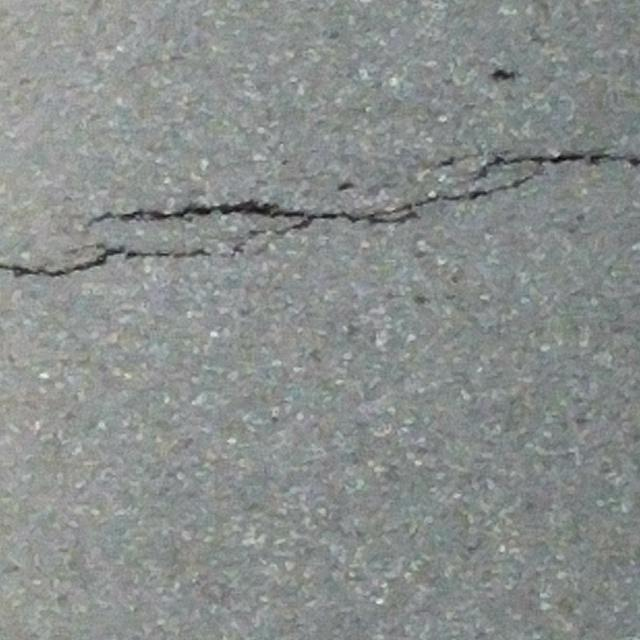TransverseCrack: (1, 152, 640, 275)
